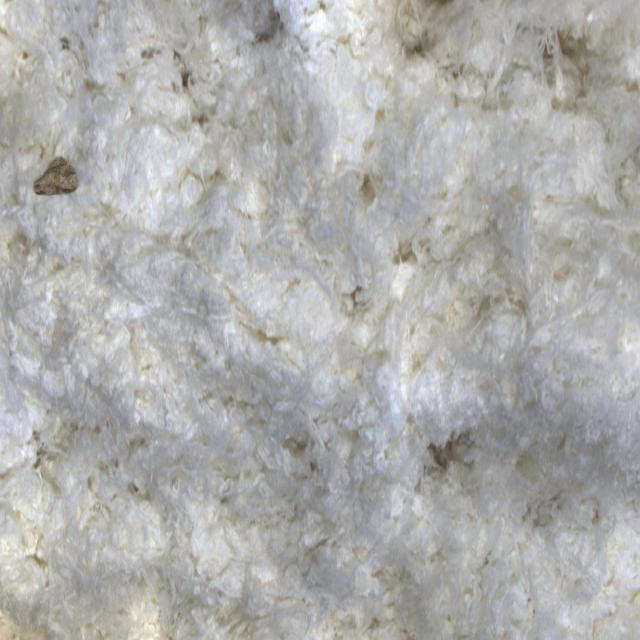dust: (13, 121, 109, 242)
